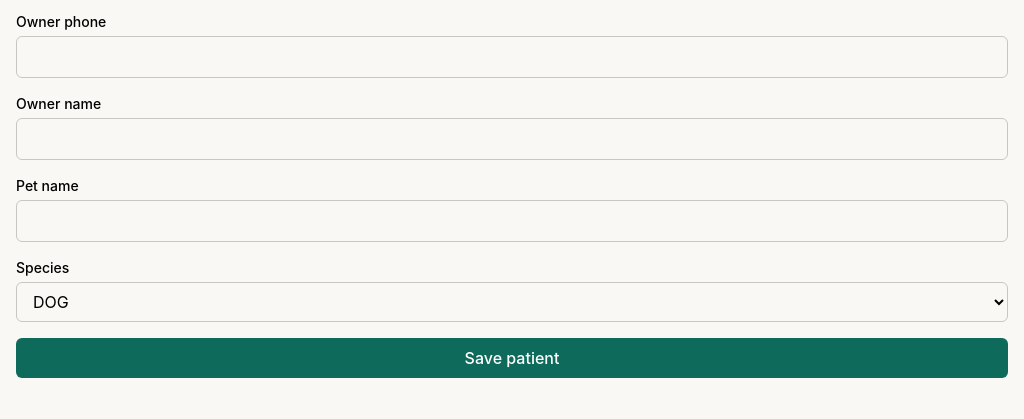
Test: NewPatientForm validation › prefills and locks the owner name when the phone matches an existing owner
The image size is (1024, 419).
Type "9876543210" into the field labelled "Owner phone" at (512, 57), box x1=16 y1=36 x2=1008 y2=78
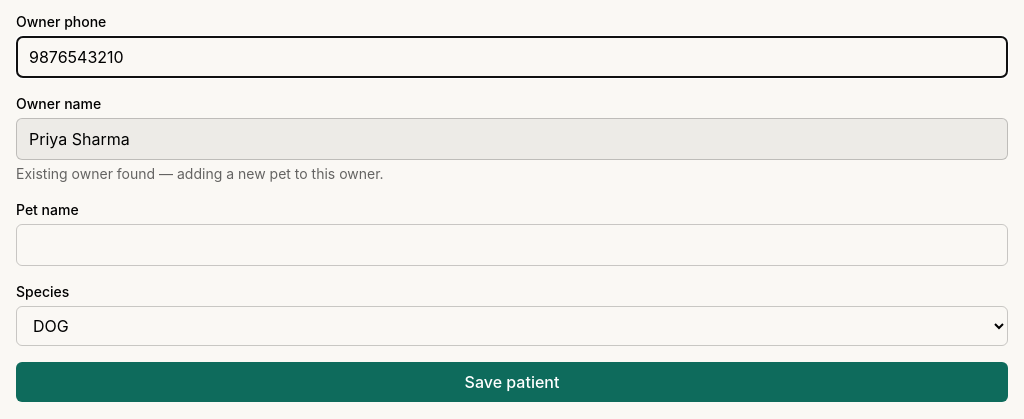
Check: the field labelled "Owner name" holds "Priya Sharma", box x1=16 y1=118 x2=1008 y2=160
Check: the field labelled "Owner name" is disabled, box x1=16 y1=118 x2=1008 y2=160
Check: the text "Existing owner found — adding a new pet to this owner." is shown, box x1=16 y1=165 x2=384 y2=182
